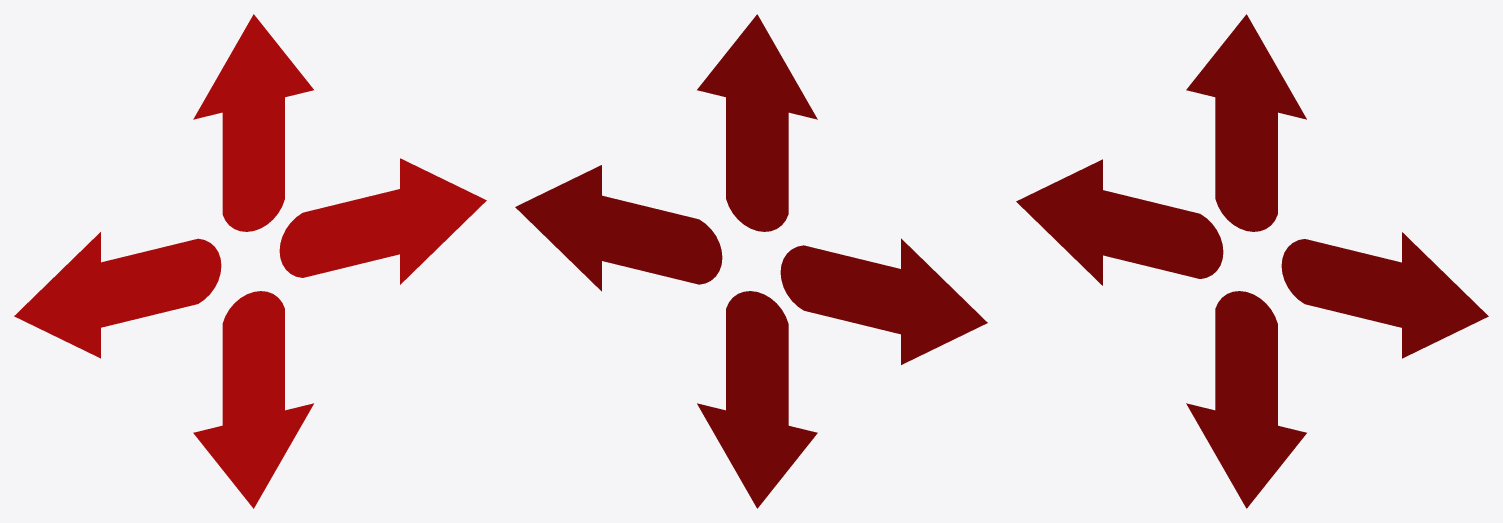
The model's file is movebutton.fbx.
3 views of the same model, side by side, from view 1: azimuth 30°, elevation 25°; view 2: azimuth 150°, elevation 25°; view 3: azimuth 330°, elevation 25° (orthographic).
Visible parts, largest first — view 1: Mesh1 Group1 Model; view 2: Mesh1 Group1 Model; view 3: Mesh1 Group1 Model.
Part boxes in pixels (x1=…): Mesh1 Group1 Model: x1=14, y1=14, x2=486, y2=508; Mesh1 Group1 Model: x1=515, y1=14, x2=987, y2=508; Mesh1 Group1 Model: x1=1016, y1=14, x2=1488, y2=508.
Size of the model in its own units: 626903 by 626902 by 10443.
